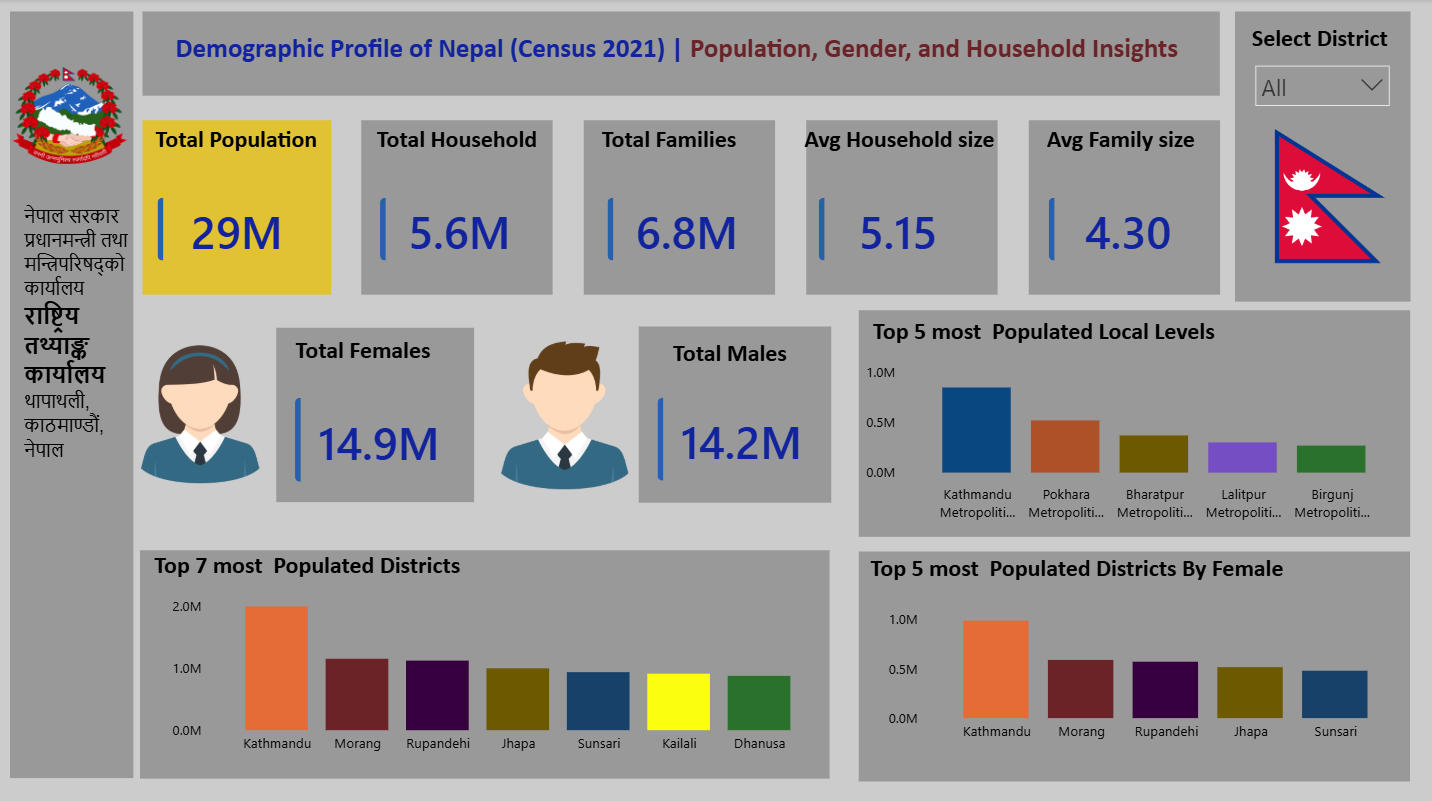

The page's visual inventory and layout, read from the dashboard file:
{"tool":"powerbi","page":{"name":"population","canvas":[1280,720],"ordinal":0},"visuals":[{"type":"shape","box":[1103.5,11.6,157,259.3],"z":0},{"type":"shape","box":[8.9,11.4,110.2,685.1],"z":1000},{"type":"image","box":[1124.5,116.5,126.6,120.3],"z":2000},{"type":"shape","box":[126.7,11.6,962.8,75.6],"z":3000},{"type":"shape","box":[126.7,108,168.6,155.8],"z":4000},{"type":"shape","box":[323,108,170.9,155.8],"z":5000},{"type":"shape","box":[767.4,278.6,492.6,202.6],"z":6000},{"type":"shape","box":[125.1,492.4,616.4,204.3],"z":7000},{"type":"shape","box":[247.2,293.8,176.7,155.8],"z":8000},{"type":"shape","box":[570.6,292.6,172,157.4],"z":9000},{"type":"shape","box":[767.1,493.6,492.4,205.5],"z":10000},{"type":"shape","box":[521.5,108,170.9,155.8],"z":11000},{"type":"shape","box":[720.1,108,170.9,155.8],"z":12000},{"type":"textbox","box":[152.3,23.3,909.3,44.2],"z":13000},{"type":"shape","box":[918.6,108,170.9,155.8],"z":14000},{"type":"image","box":[117.8,292.5,122.8,157],"z":15000},{"type":"image","box":[431.8,306.5,144.4,131.7],"z":16000},{"type":"cardVisual","fields":{"Data":["census.Total population of country"]},"box":[124.4,160.5,175.6,90.7],"z":17000},{"type":"textbox","box":[133.7,107,172.1,41.9],"z":18000},{"type":"textbox","box":[331.4,107,172.1,41.9],"z":19000},{"type":"textbox","box":[532.6,107,172.1,41.9],"z":20000},{"type":"textbox","box":[714,107,207,41.9],"z":21000},{"type":"textbox","box":[930.2,107,159.3,41.9],"z":22000},{"type":"cardVisual","fields":{"Data":["census.Total Household"]},"box":[323.3,160.5,175.6,90.7],"z":23000},{"type":"cardVisual","fields":{"Data":["census.Total Familes sum"]},"box":[525.6,160.5,175.6,90.7],"z":24000},{"type":"cardVisual","fields":{"Data":["census.AVg household size"]},"box":[715.1,160.5,175.6,90.7],"z":25000},{"type":"cardVisual","fields":{"Data":["census.AVg family Size"]},"box":[919.8,160.5,175.6,90.7],"z":26000},{"type":"cardVisual","fields":{"Data":["census.Total Female in Country"]},"box":[247.2,339.1,183.7,109.3],"z":27000},{"type":"textbox","box":[259.6,296.3,172.2,41.8],"z":28000},{"type":"textbox","box":[596.4,297.6,171,41.8],"z":29000},{"type":"cardVisual","fields":{"Data":["census.Total male in country"]},"box":[571.1,339.4,183.6,108.9],"z":30000},{"type":"columnChart","fields":{"Category":["District Population.District"],"Y":["Sum(District Population.Total Population)"]},"box":[148.5,528.2,592.9,155.2],"z":31000},{"type":"textbox","box":[132.9,488,289.2,41.3],"z":32000},{"type":"slicer","fields":{"Values":["census.District"]},"box":[1110.6,49.4,140.6,67.1],"z":33000},{"type":"textbox","box":[1113.1,16.5,138,41.8],"z":34000},{"type":"columnChart","fields":{"Category":["Local level Population.Local Level Name"],"Y":["Sum(Local level Population.Total Population)"]},"box":[768.5,318.9,490.6,154.9],"z":35000},{"type":"columnChart","fields":{"Category":["District Population.District"],"Y":["Sum(District Population.Female Population)"]},"box":[788.2,540.7,470.8,132.1],"z":36000},{"type":"textbox","box":[773,490.6,396.4,41],"z":37000},{"type":"textbox","box":[774.6,279.5,396.4,41],"z":38000},{"type":"image","box":[11.4,31.7,102.6,145.6],"z":39000},{"type":"textbox","box":[16.5,177.3,110.2,263.4],"z":40000}]}

Visuals, with their boxes in screenshot pixels (x1, y1, x2, y2), scaled from the page's 1280x720 canvas onto the 1432x801 screenshot:
shape: bbox=(1235, 13, 1410, 301)
shape: bbox=(10, 13, 133, 775)
image: bbox=(1258, 130, 1400, 263)
shape: bbox=(142, 13, 1219, 97)
shape: bbox=(142, 120, 330, 293)
shape: bbox=(361, 120, 553, 293)
shape: bbox=(859, 310, 1410, 535)
shape: bbox=(140, 548, 830, 775)
shape: bbox=(277, 327, 474, 500)
shape: bbox=(638, 326, 831, 501)
shape: bbox=(858, 549, 1409, 778)
shape: bbox=(583, 120, 775, 293)
shape: bbox=(806, 120, 997, 293)
textbox: bbox=(170, 26, 1188, 75)
shape: bbox=(1028, 120, 1219, 293)
image: bbox=(132, 325, 269, 500)
image: bbox=(483, 341, 645, 487)
cardVisual - census.Total population of country: bbox=(139, 179, 336, 279)
textbox: bbox=(150, 119, 342, 166)
textbox: bbox=(371, 119, 563, 166)
textbox: bbox=(596, 119, 788, 166)
textbox: bbox=(799, 119, 1030, 166)
textbox: bbox=(1041, 119, 1219, 166)
cardVisual - census.Total Household: bbox=(362, 179, 558, 279)
cardVisual - census.Total Familes sum: bbox=(588, 179, 784, 279)
cardVisual - census.AVg household size: bbox=(800, 179, 996, 279)
cardVisual - census.AVg family Size: bbox=(1029, 179, 1225, 279)
cardVisual - census.Total Female in Country: bbox=(277, 377, 482, 499)
textbox: bbox=(290, 330, 483, 376)
textbox: bbox=(667, 331, 859, 378)
cardVisual - census.Total male in country: bbox=(639, 378, 844, 499)
columnChart - District Population.District x Sum(District Population.Total Population): bbox=(166, 588, 829, 760)
textbox: bbox=(149, 543, 472, 589)
slicer - census.District: bbox=(1242, 55, 1400, 130)
textbox: bbox=(1245, 18, 1400, 65)
columnChart - Local level Population.Local Level Name x Sum(Local level Population.Total Population): bbox=(860, 355, 1409, 527)
columnChart - District Population.District x Sum(District Population.Female Population): bbox=(882, 602, 1409, 748)
textbox: bbox=(865, 546, 1308, 591)
textbox: bbox=(867, 311, 1310, 357)
image: bbox=(13, 35, 128, 197)
textbox: bbox=(18, 197, 142, 490)
